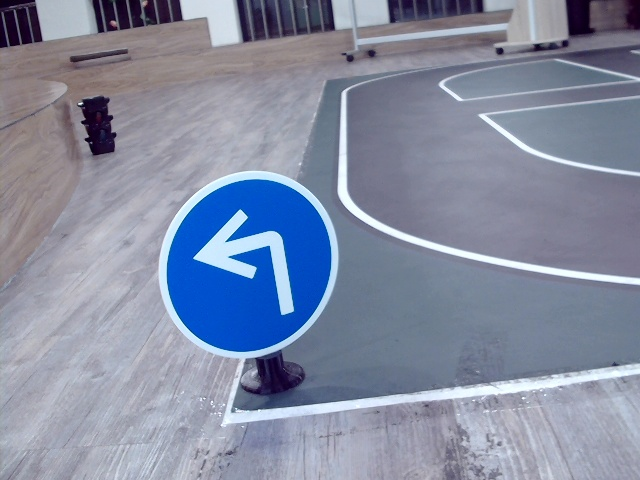turn_left: (196, 210, 302, 317)
